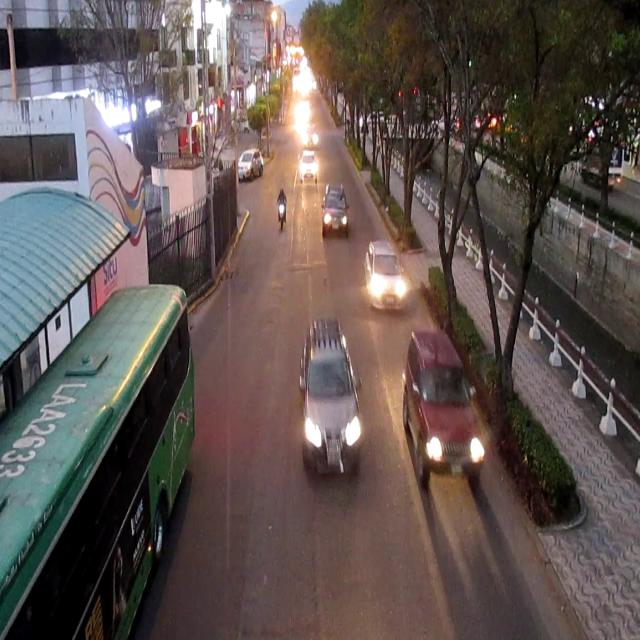BUS: (3, 284, 197, 640)
MOTORCYCLE: (277, 187, 287, 234)
SUV: (400, 330, 483, 487), (304, 325, 364, 474), (321, 177, 349, 235), (236, 149, 261, 179)
